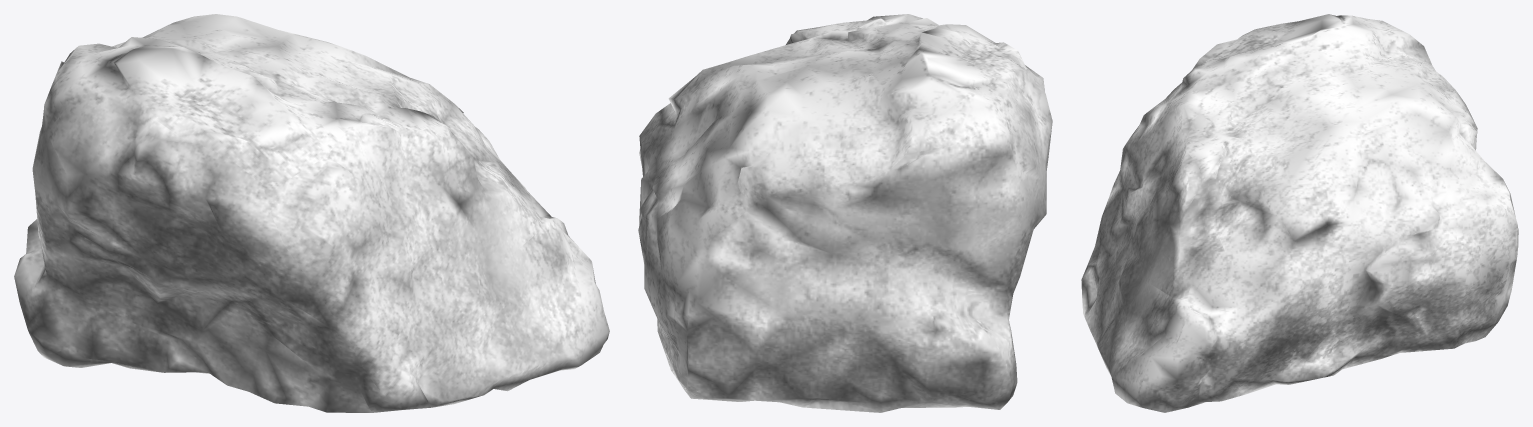
Rendered from rock.glb.
The picture shows the model from 3 angles, left to right: view 1: azimuth 30°, elevation 25°; view 2: azimuth 150°, elevation 25°; view 3: azimuth 270°, elevation 25°; orthographic projection. The views are drawn at different scales.
Bounding box in the file's own units: 6.45 × 4.2 × 6.45.
Materials: 1 (1 with a texture image).
